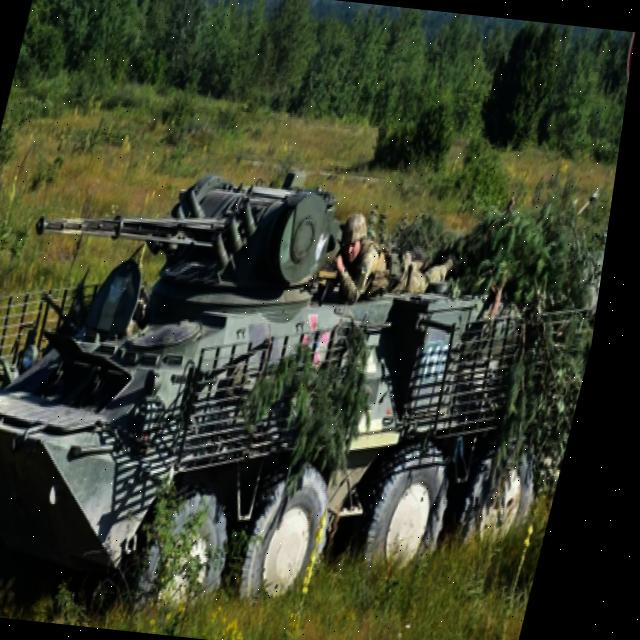MIL_APC: (0, 160, 622, 627)
